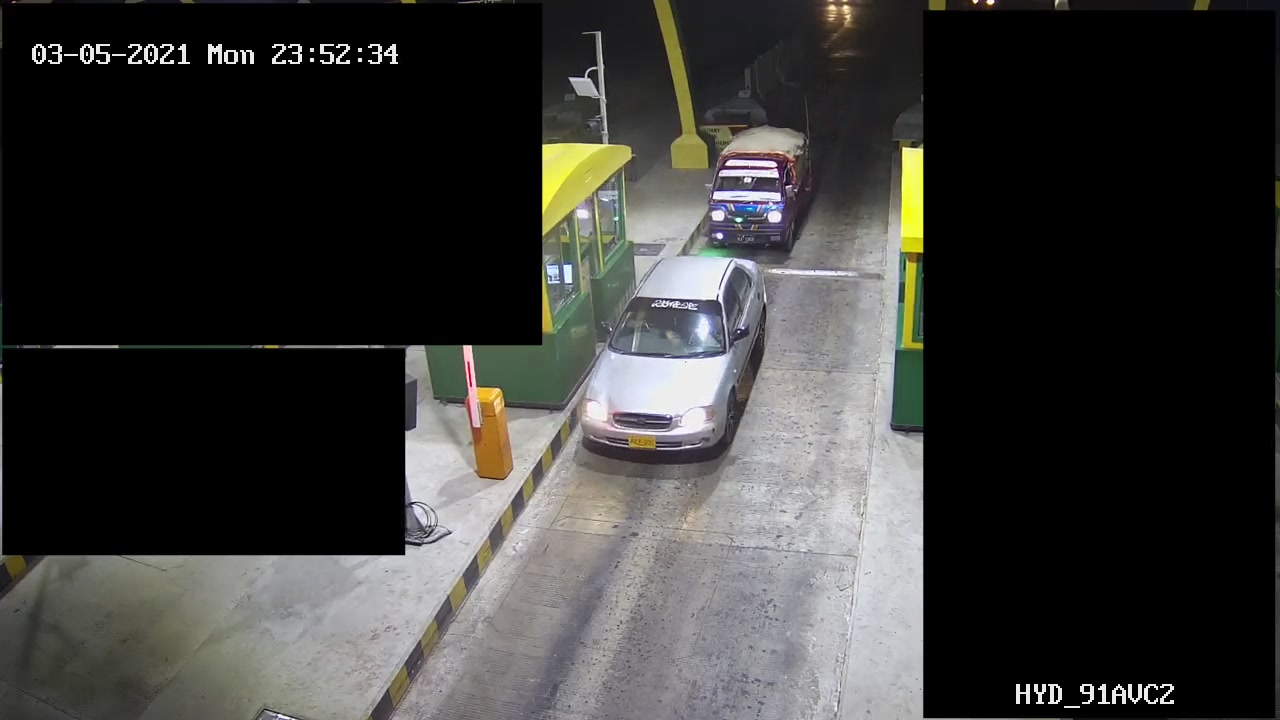F1: (572, 247, 783, 472), (704, 124, 818, 258)
